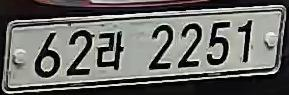1: (234, 16, 256, 64)
2: (66, 28, 96, 77), (146, 22, 175, 72), (176, 19, 202, 70)
5: (206, 19, 232, 65)
6: (30, 29, 65, 79)
라: (95, 28, 126, 71)
